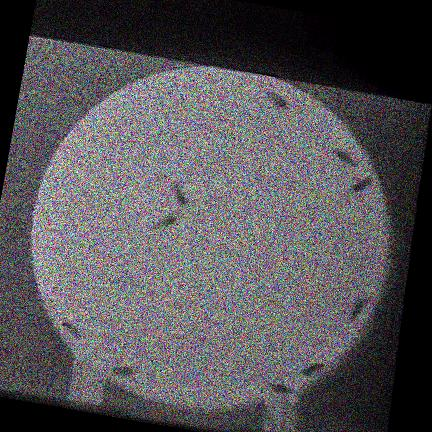fly: (349, 298, 370, 321), (333, 147, 356, 165), (349, 177, 373, 194), (173, 183, 188, 207), (266, 91, 288, 107), (155, 214, 179, 228), (299, 362, 324, 375), (63, 318, 79, 338), (269, 382, 294, 394), (112, 365, 134, 376)
